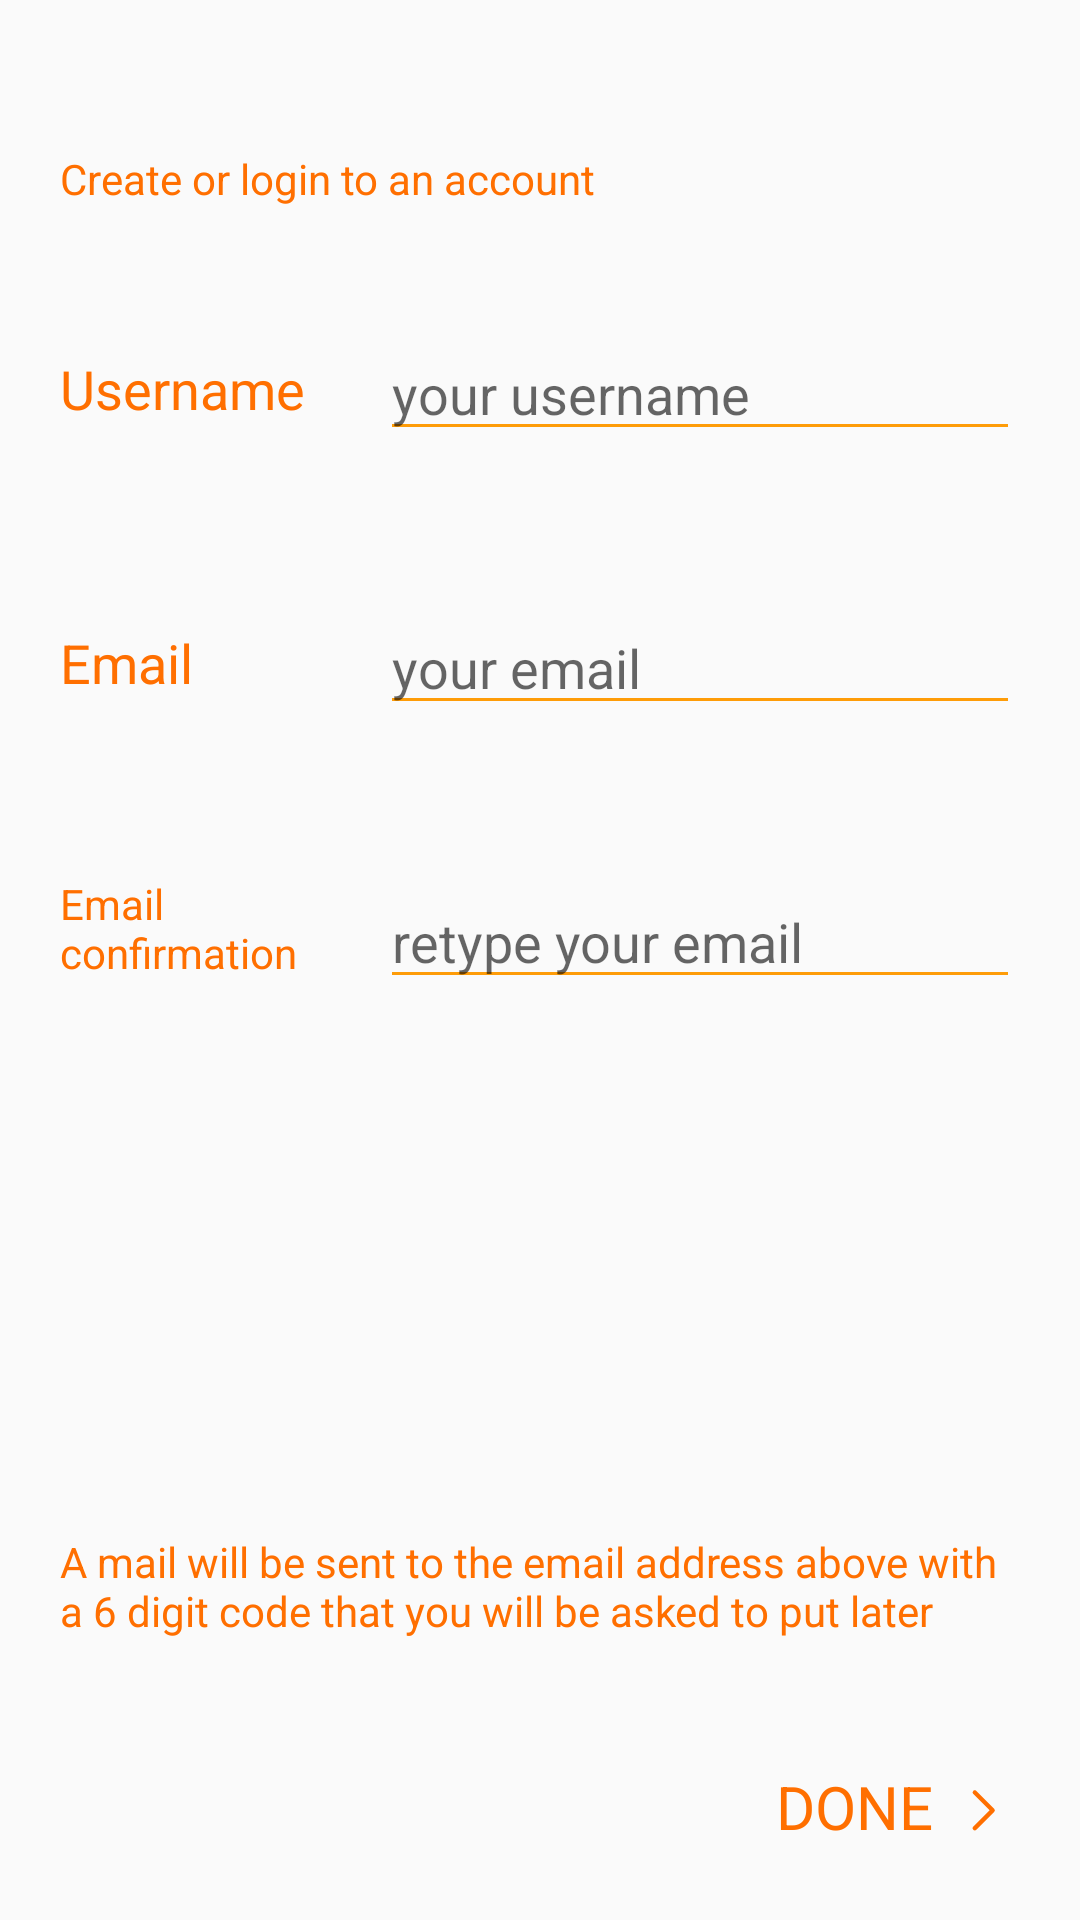

Where icons sit on this 1080px x 1920px app screen, as rect(x1, y1, x2, y2):
right arrow: rect(972, 1790, 995, 1831)
